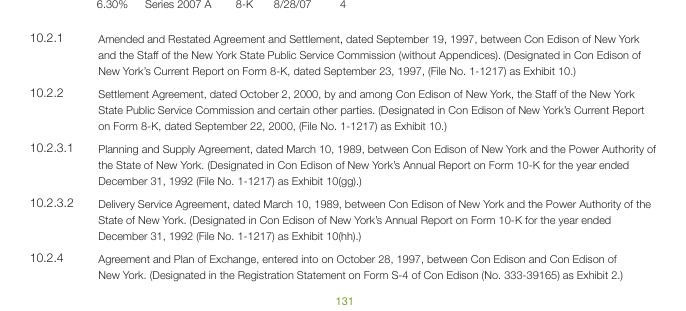table: (28, 29, 654, 280)
table column: (84, 29, 654, 280), (28, 29, 84, 280)
table row: (28, 80, 654, 135), (28, 135, 654, 190), (28, 190, 654, 244), (28, 29, 654, 80), (28, 244, 654, 280)
